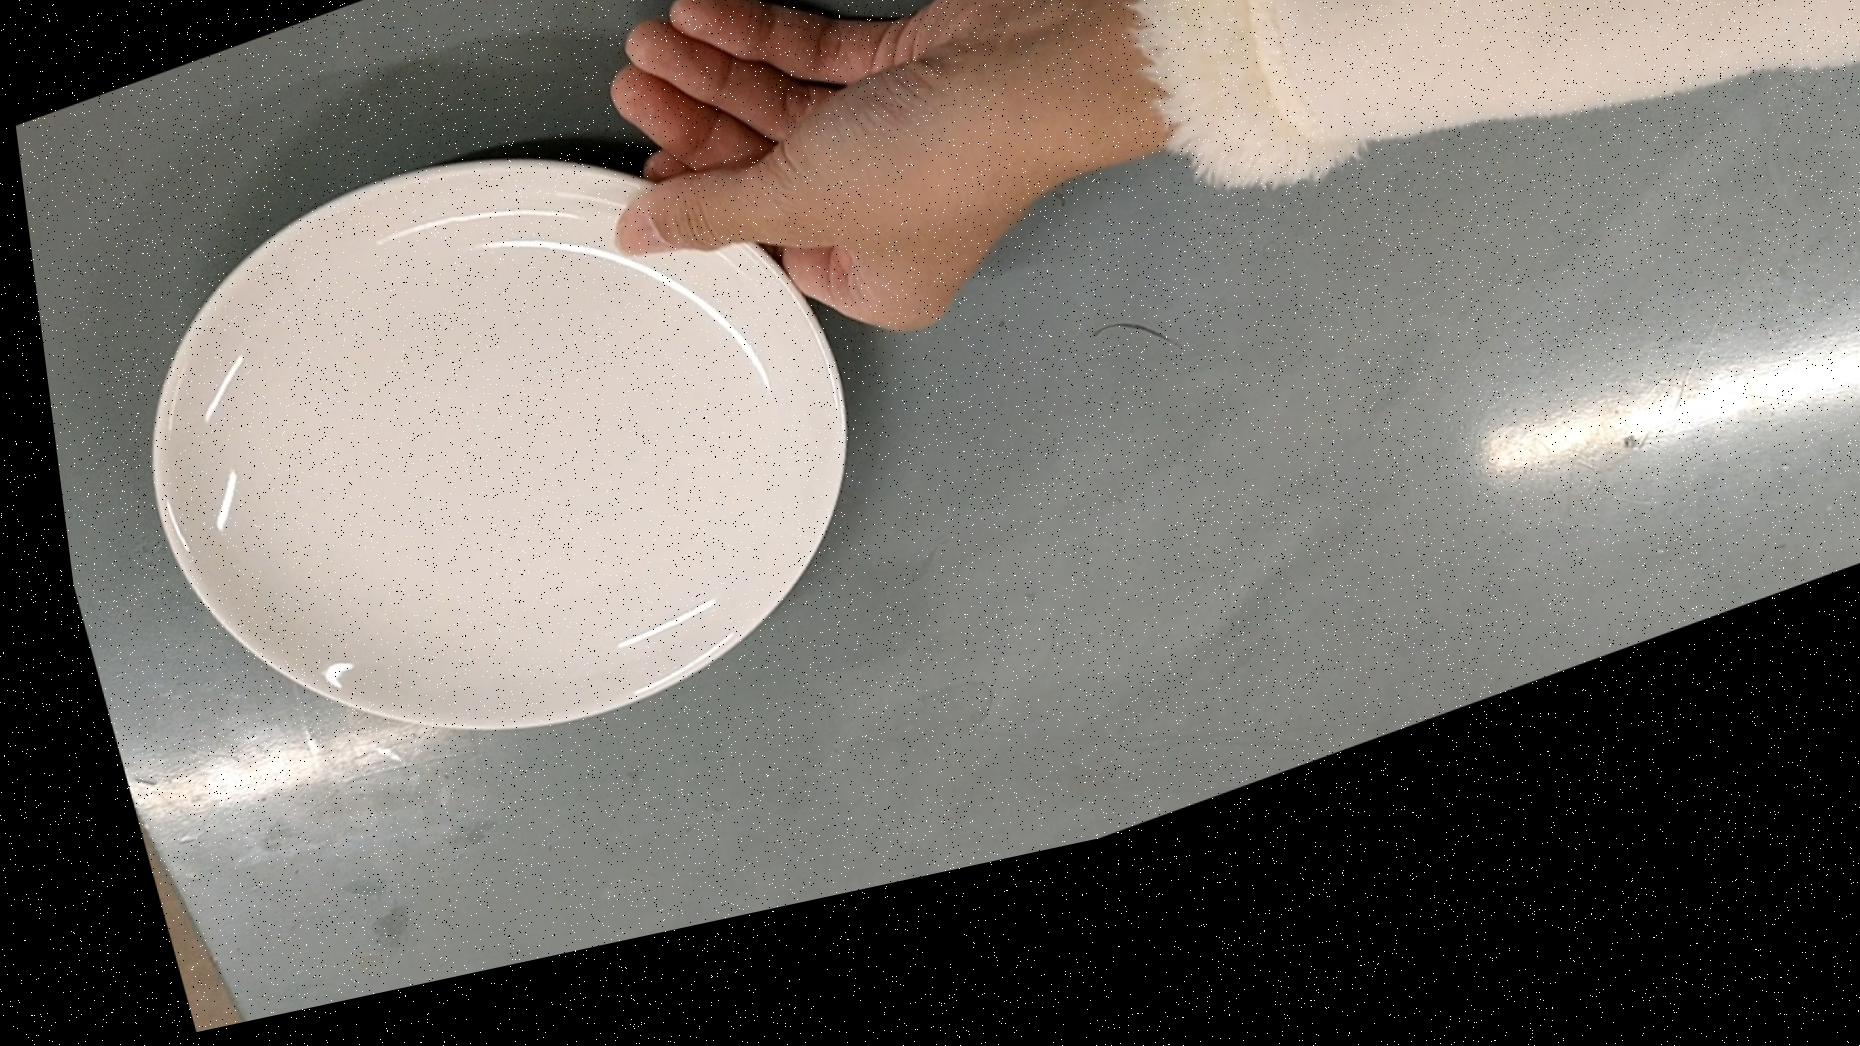plate: (78, 64, 888, 861)
